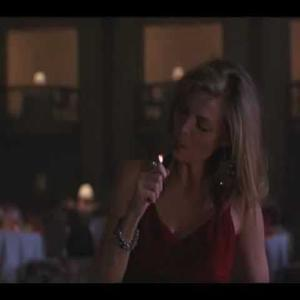cigarette: (151, 153, 168, 175)
